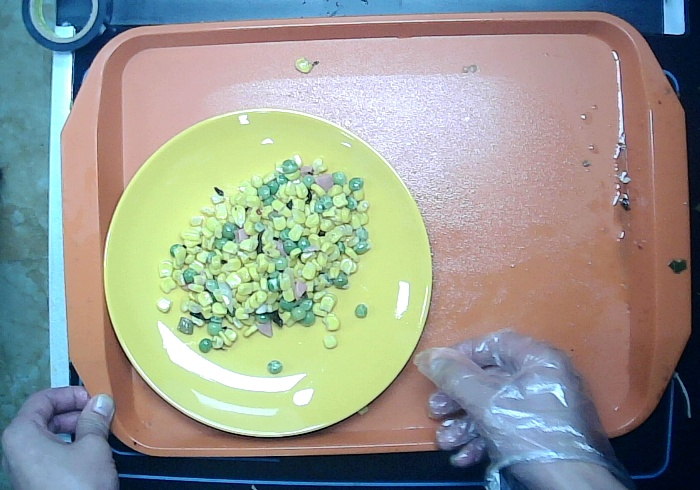HZYJPL-Huang_Se_Yuan_Pan: (99, 100, 436, 440)
